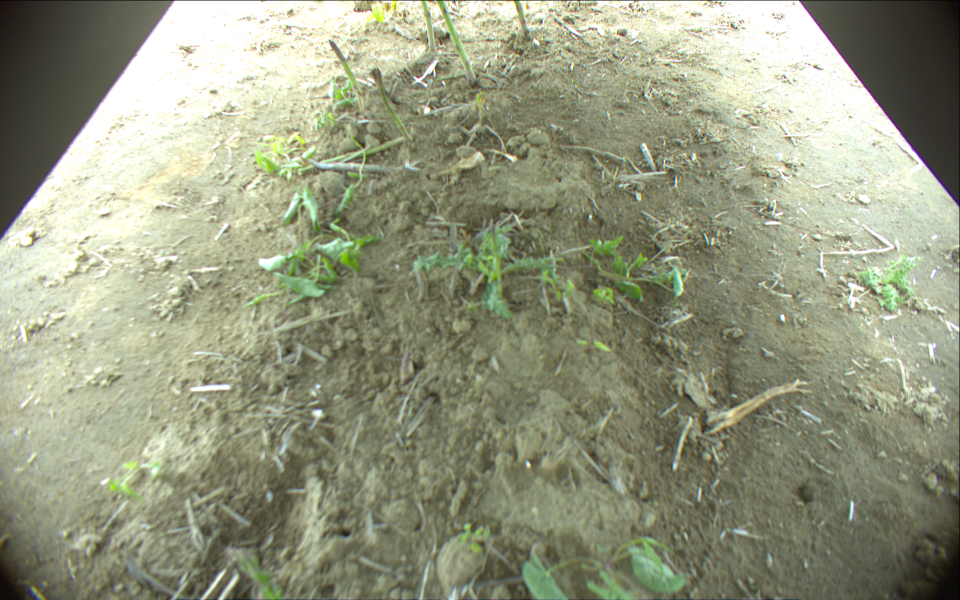aspa: (300, 137, 403, 174), (437, 1, 478, 86), (375, 69, 410, 138), (329, 40, 364, 109), (420, 1, 438, 52), (513, 1, 531, 38)
